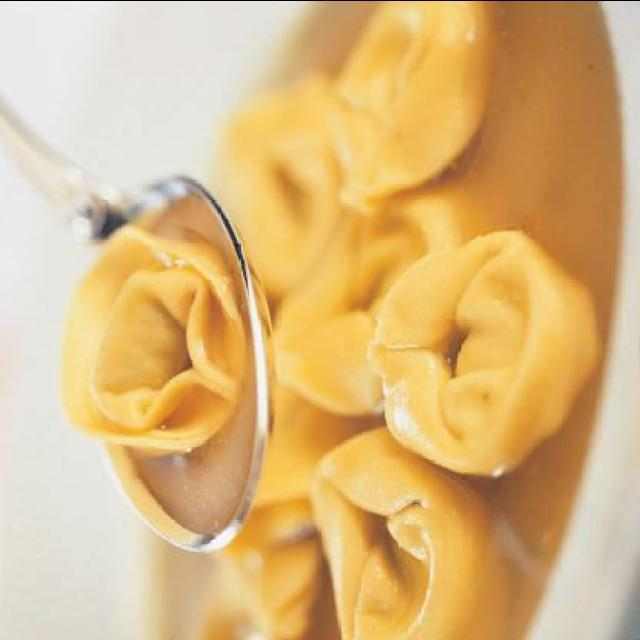Tortellini in broth: (54, 175, 250, 476)
